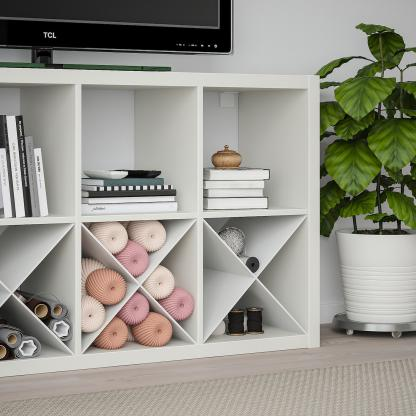lamp: (0, 68, 322, 385)
